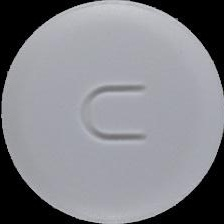29300-242: (0, 0, 224, 224)
